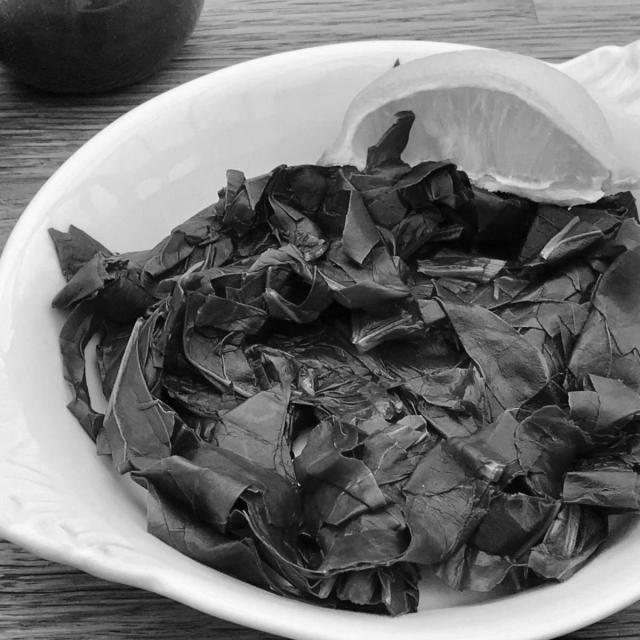Spinach: (26, 153, 640, 621)
